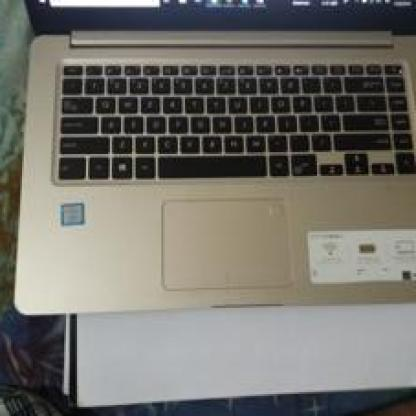keyboard: (32, 21, 412, 227)
